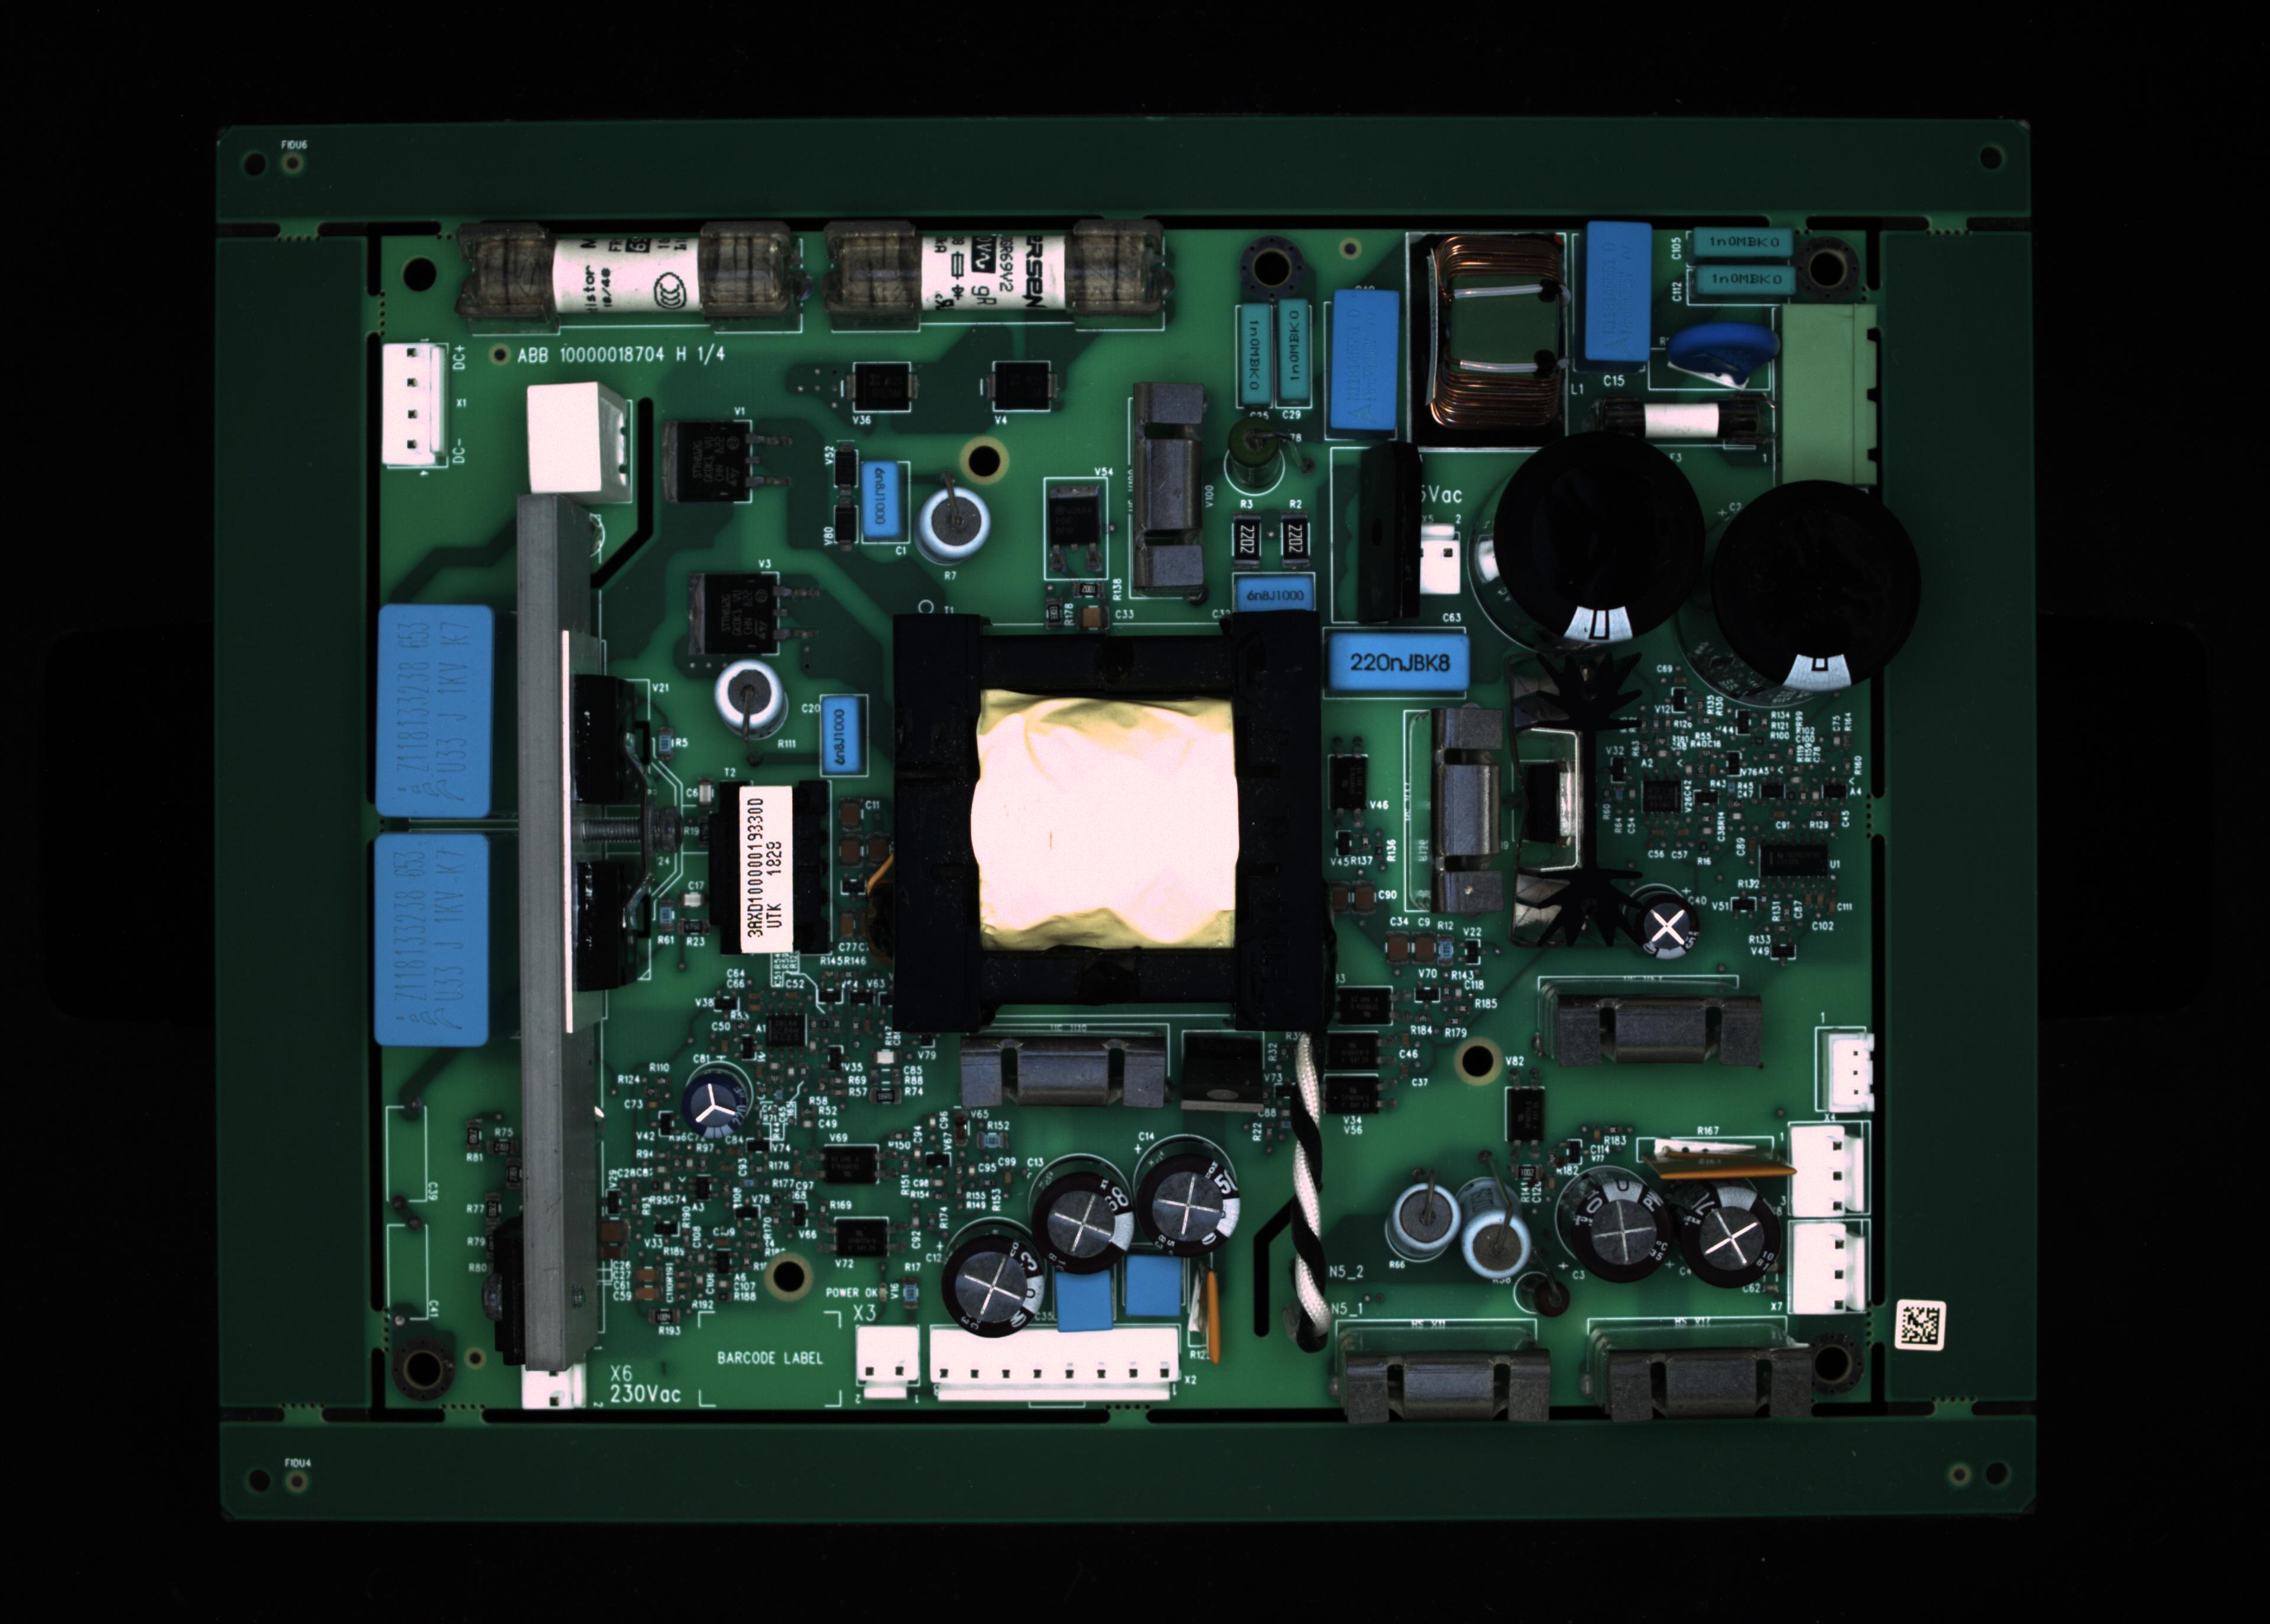10_p: (1665, 322, 1781, 388)
11_q: (1783, 306, 1876, 483)
12_r: (1602, 397, 1758, 443)
13_s: (382, 344, 445, 468)
14_t: (529, 383, 631, 504)
15_e: (862, 460, 900, 536)
16_k: (914, 485, 990, 564)
17_u: (1134, 385, 1204, 585)
18_v: (1236, 576, 1315, 612)
19_w: (1329, 631, 1470, 691)
1_a: (455, 220, 791, 320)
20_f: (1419, 524, 1459, 594)
21_g: (1495, 427, 1707, 643)
22_g: (1709, 482, 1920, 689)
23_h: (380, 605, 491, 817)
24_h: (375, 833, 489, 1044)
25_f: (520, 1362, 582, 1410)
26_f: (855, 1329, 920, 1399)
27_x: (930, 1327, 1178, 1401)
28_i: (1136, 1153, 1240, 1257)
29_i: (1030, 1171, 1134, 1274)
2_a: (826, 220, 1159, 311)
30_i: (939, 1234, 1044, 1339)
31_j: (1055, 1271, 1113, 1332)
32_j: (1125, 1255, 1182, 1316)
33_e: (823, 698, 860, 773)
34_k: (1384, 1181, 1461, 1264)
35_k: (1459, 1178, 1532, 1280)
36_i: (1568, 1178, 1672, 1283)
37_i: (1679, 1185, 1783, 1287)
38_l: (1347, 1350, 1549, 1422)
39_l: (1609, 1348, 1811, 1418)
3_b: (1240, 302, 1270, 401)
40_l: (1553, 997, 1760, 1065)
41_y: (1431, 708, 1502, 914)
42_z: (1829, 1033, 1874, 1113)
43_m: (1792, 1127, 1860, 1216)
44_m: (1793, 1225, 1864, 1313)
45_i: (679, 1070, 749, 1137)
46_n: (1338, 982, 1389, 1026)
47_n: (823, 1146, 876, 1183)
48_n: (835, 1218, 886, 1258)
49_aa: (767, 1014, 805, 1048)
4_b: (1280, 299, 1312, 401)
50_n: (1324, 1033, 1377, 1070)
51_n: (1322, 1074, 1379, 1113)
52_ab: (1329, 756, 1368, 810)
53_ac: (1656, 1137, 1758, 1160)
54_ad: (1189, 1265, 1204, 1330)
55_l: (958, 1035, 1166, 1107)
56_ae: (1180, 1032, 1262, 1111)
57_af: (1533, 650, 1642, 949)
58_i: (1635, 891, 1699, 960)
59_o: (993, 359, 1050, 410)
5_c: (1331, 288, 1396, 429)
60_o: (853, 360, 907, 411)
6_6: (1410, 234, 1567, 448)
7_c: (1586, 223, 1651, 360)
8_d: (1693, 227, 1792, 258)
9_d: (1697, 265, 1793, 294)
